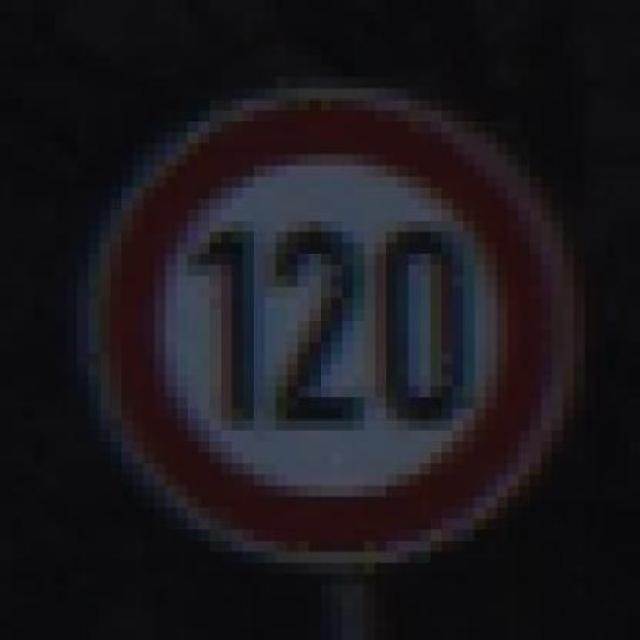forb_speed_over_120: (108, 101, 552, 552)
